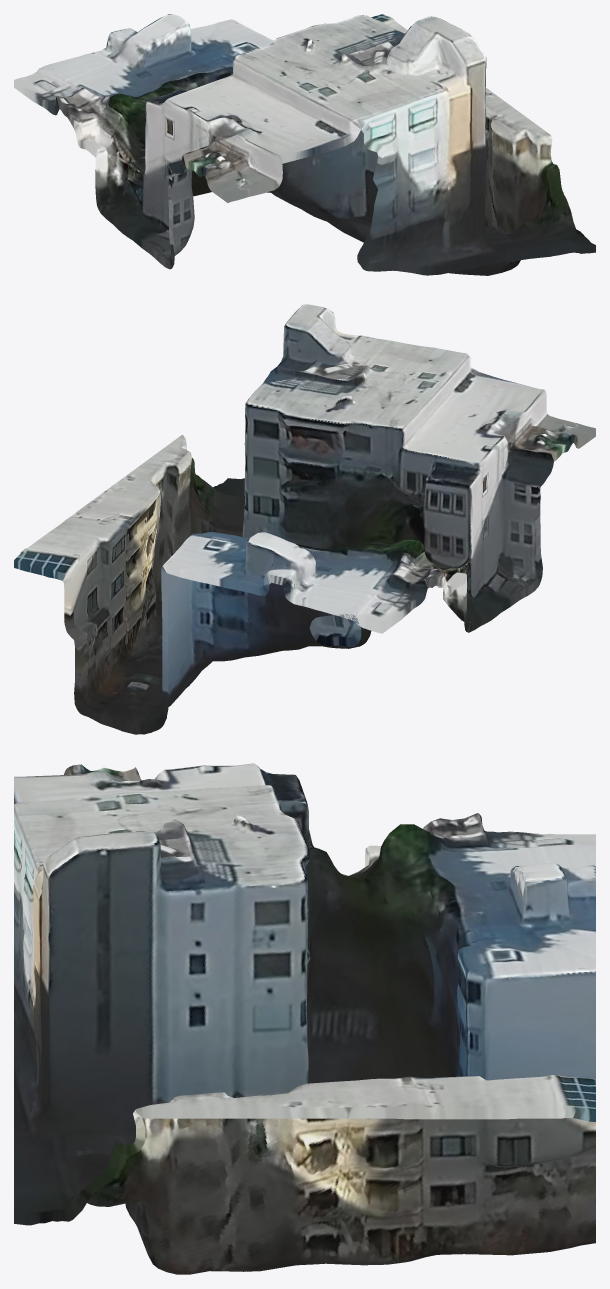
Rendered from z20-167749-405192-h0-yup-uvflip-v3-world.glb.
3 views of the same model, one above another, from view 1: azimuth 30°, elevation 25°; view 2: azimuth 150°, elevation 25°; view 3: azimuth 270°, elevation 25° (orthographic). The views are drawn at different scales.
Size of the model in its own units: 30.16 by 22.56 by 30.32.
1 material, 1 textured.
